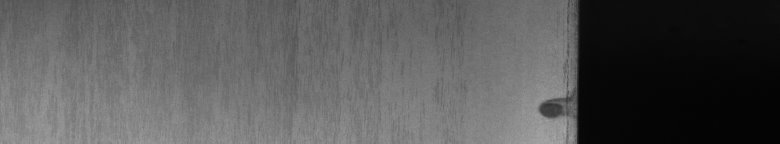hb: (533, 16, 568, 136)
